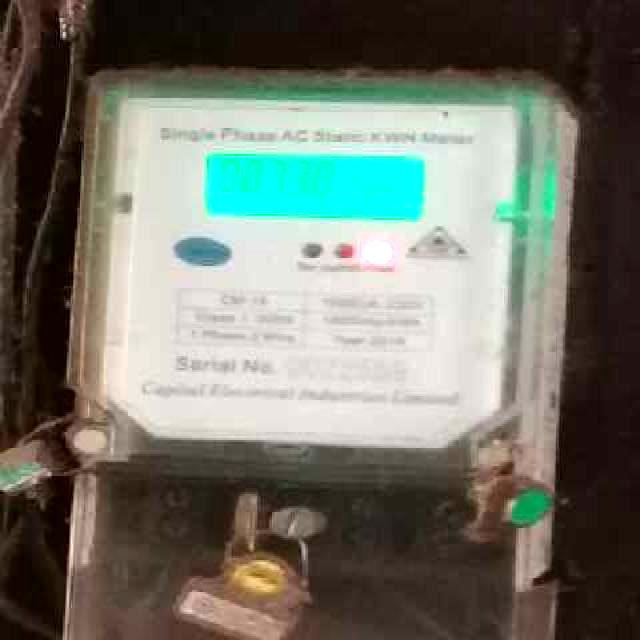LCD: (194, 143, 441, 234)
